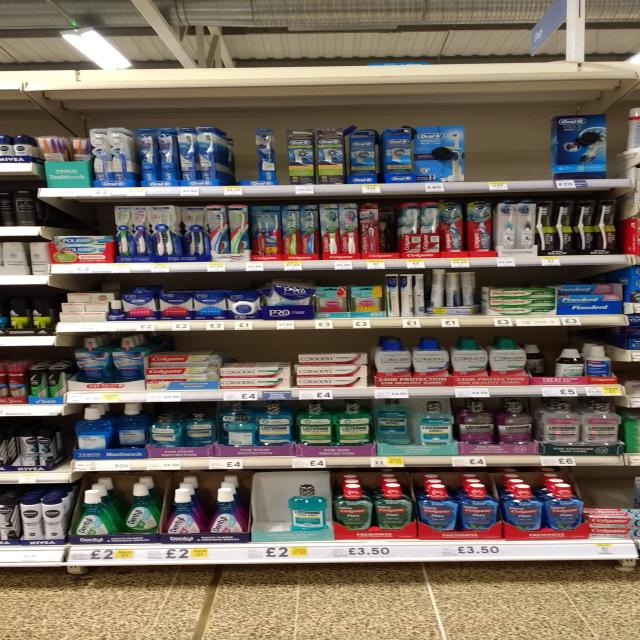void: (470, 118, 549, 179)
